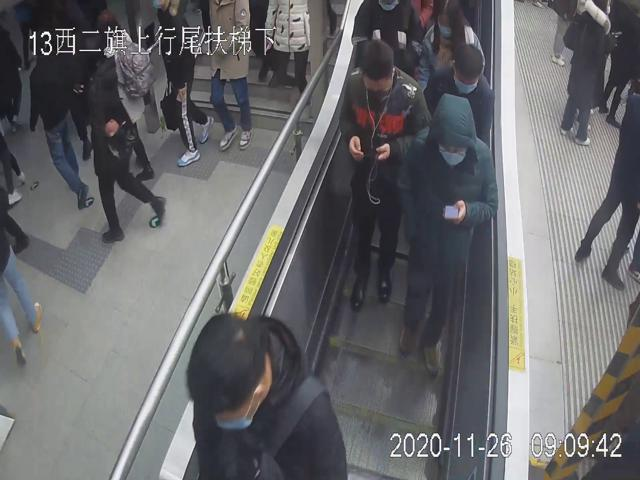person: (395, 93, 500, 376), (334, 33, 434, 313), (422, 43, 496, 148)
